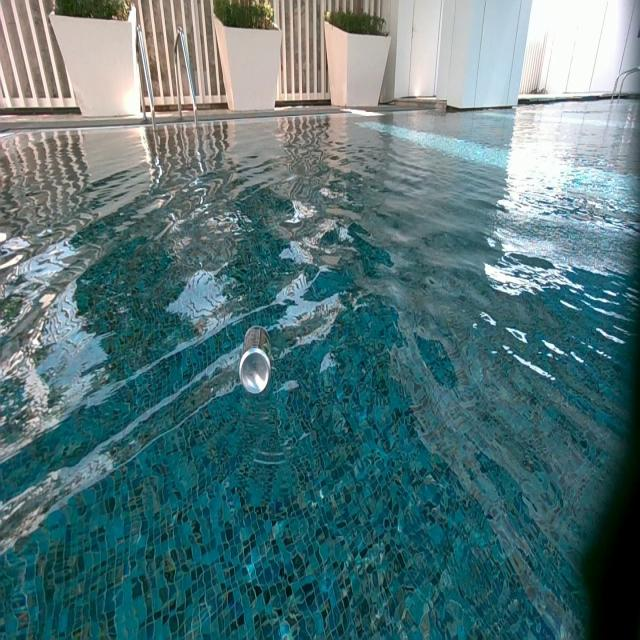Cans: (240, 324, 270, 398)
